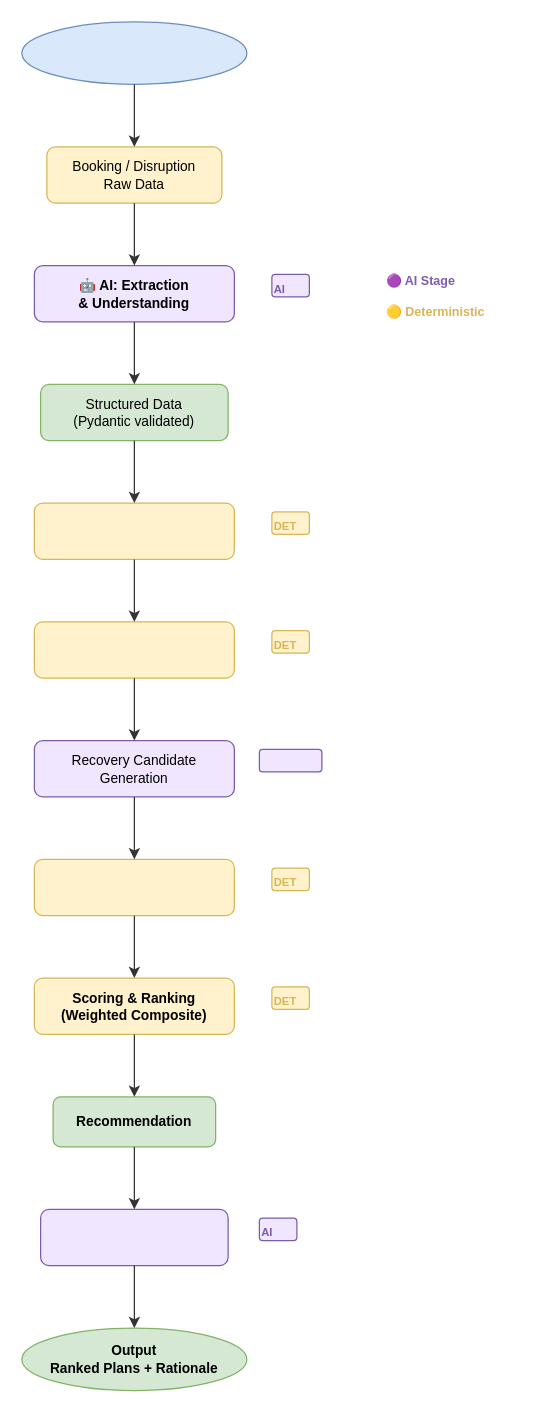
Some shapes in this 544 by 1413 pixel diagram are drawn without their labels. The box of each missing label's shape, as (x1, y1, x2, y2) in pixels:
AI+DET: (258, 748, 322, 772)
Constraint Validation (Budget, Preferences): (33, 858, 234, 916)
Dependency Analysis (Graph Traversal): (33, 502, 234, 559)
Impact Analysis (Slack Computation): (33, 621, 234, 678)
Input (Documents / Disruption): (21, 21, 247, 84)
🤖 AI: Explanation (Plain Language): (39, 1208, 228, 1266)
